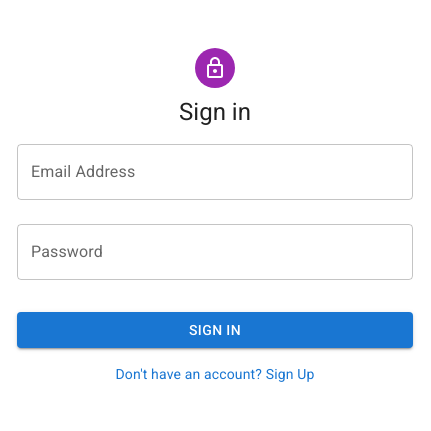
<Signin /> › explains an unreachable API rather than failing silently
Step 1. Type "ada@example.com" into the field labelled "Email Address" → coordinates (215, 172), box [17,144,413,200]
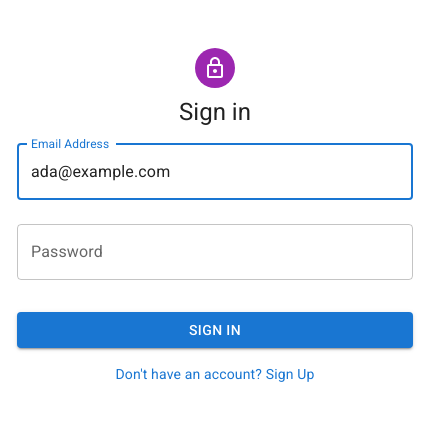
Step 2. Type "abcd1234" into the password field labelled "Password" → coordinates (215, 252), box [17,224,413,280]
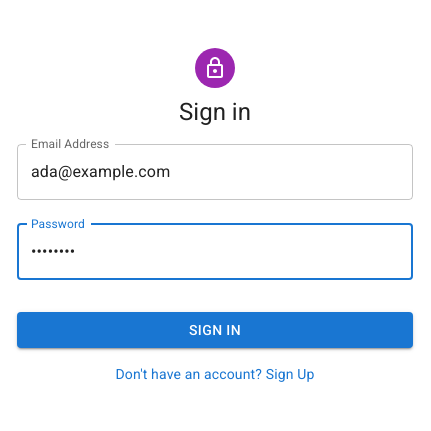
Step 3. Click the button "Sign In" → coordinates (215, 330), box [17,312,413,348]
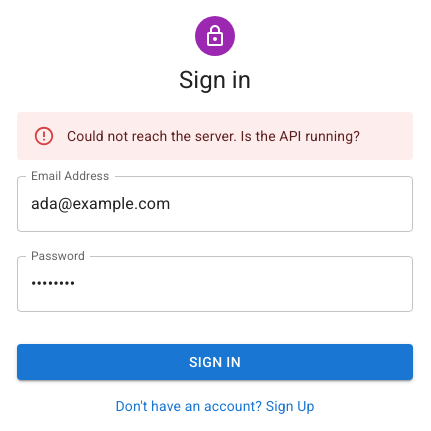
Check: the message shows "Could not reach the server.", box [67,128,360,144]
